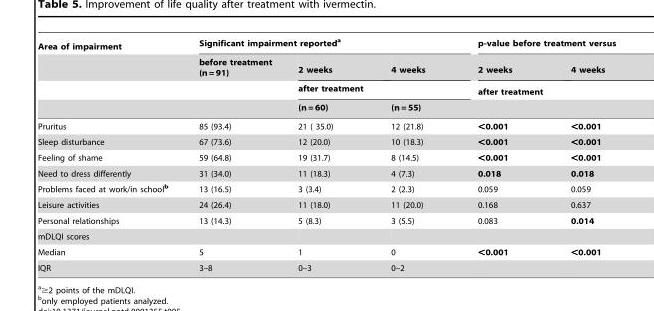table: (37, 36, 615, 272)
table column: (37, 36, 182, 272), (182, 36, 284, 272), (450, 36, 540, 272), (361, 36, 450, 272), (284, 36, 361, 272), (540, 36, 615, 272)
table column header: (37, 36, 615, 116)
table projected row header: (37, 228, 615, 244)
table row: (37, 54, 615, 80), (37, 80, 615, 99), (37, 36, 615, 54), (37, 99, 615, 116), (37, 116, 615, 133), (37, 133, 615, 149), (37, 149, 615, 165), (37, 180, 615, 196), (37, 196, 615, 212), (37, 212, 615, 228), (37, 228, 615, 244), (37, 165, 615, 180), (37, 244, 615, 259), (37, 259, 615, 272)
table spanning cell: (37, 36, 182, 116), (182, 54, 284, 116), (182, 36, 450, 54), (284, 80, 450, 99), (450, 80, 615, 99), (450, 36, 615, 54)
